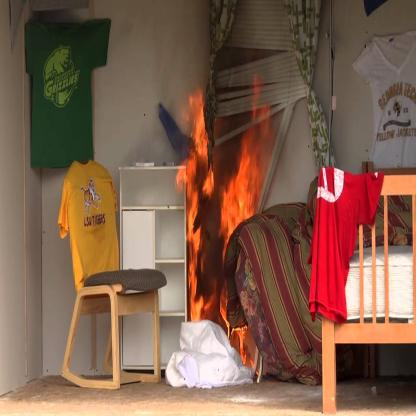fire: (180, 81, 273, 363)
